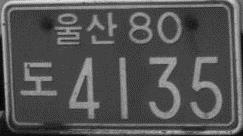0: (155, 10, 184, 44)
1: (115, 54, 131, 120)
3: (146, 54, 180, 120)
4: (66, 55, 102, 120)
5: (189, 55, 224, 120)
8: (127, 11, 153, 46)
도: (19, 60, 58, 97)
울산_O: (53, 11, 118, 47)
